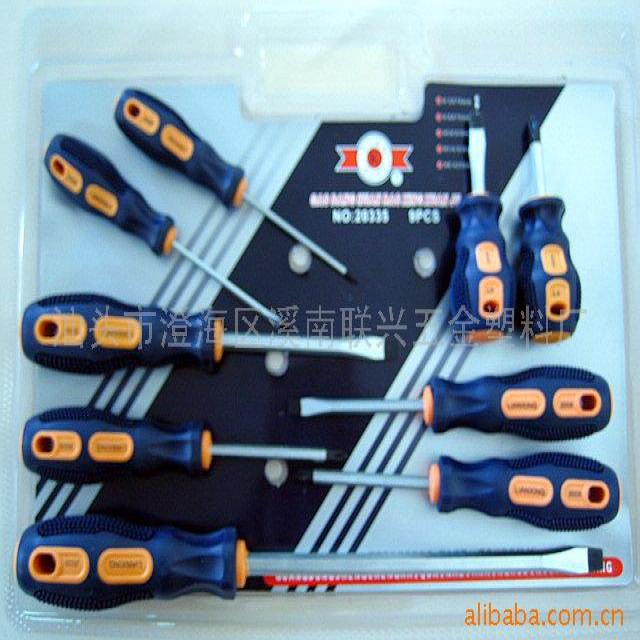screw driver: (0, 494, 640, 628), (7, 272, 428, 399), (290, 440, 640, 556), (280, 347, 640, 448)
